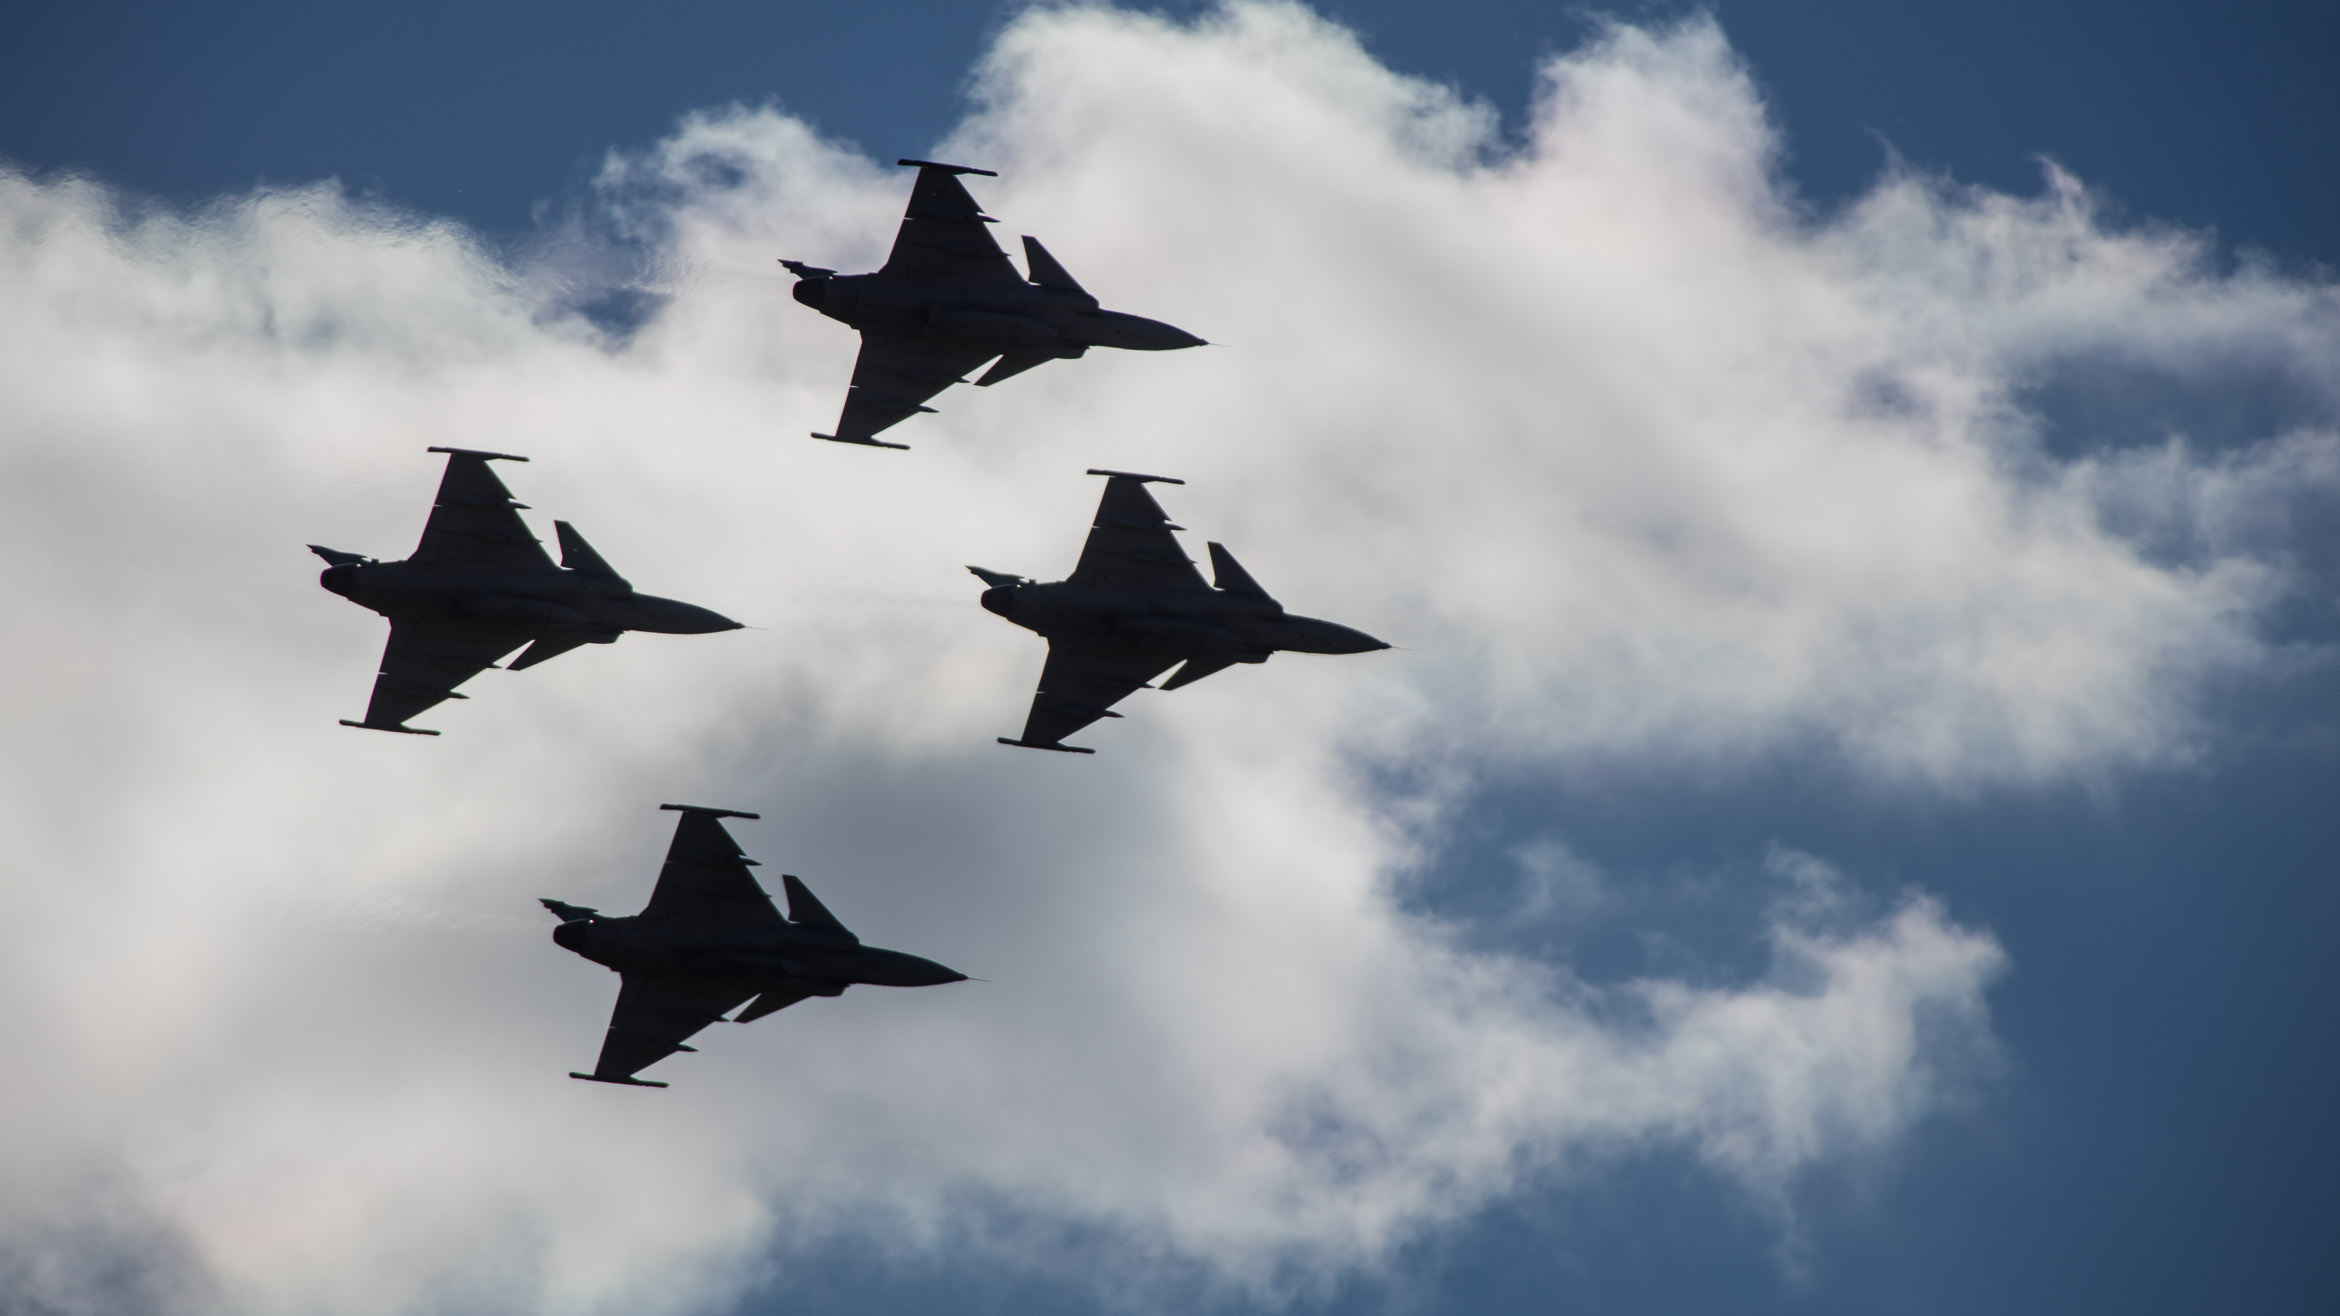JAS39: (305, 445, 768, 738), (776, 157, 1233, 450), (537, 803, 992, 1089), (963, 468, 1414, 755)
